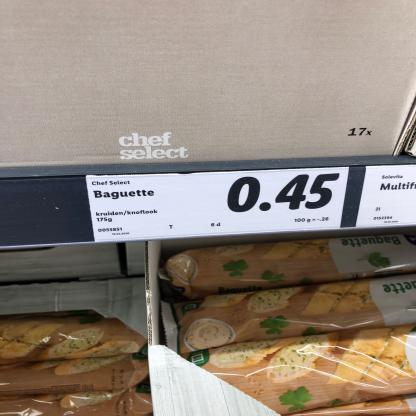prtg: (87, 168, 350, 243), (356, 166, 416, 229)
